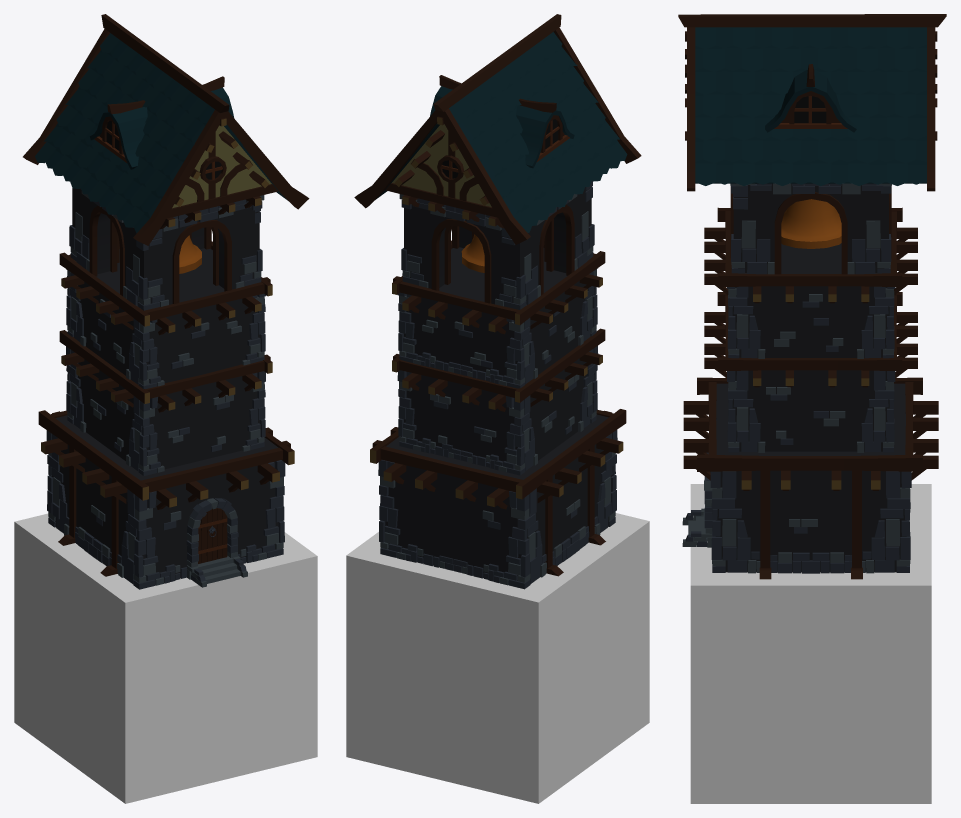
The model's file is bell_tower.obj.
3 views of the same model, side by side, from view 1: azimuth 30°, elevation 25°; view 2: azimuth 150°, elevation 25°; view 3: azimuth 270°, elevation 25° (orthographic). The views are drawn at different scales.
Parts seen in each view (by area): view 1: Bell_Tower, Cube; view 2: Bell_Tower, Cube; view 3: Bell_Tower, Cube.
Part boxes in pixels (x1,y1,x2,y2): Bell_Tower: (23, 14, 309, 589); Cube: (14, 513, 317, 803); Bell_Tower: (354, 14, 641, 589); Cube: (346, 513, 649, 803); Bell_Tower: (678, 14, 946, 579); Cube: (690, 484, 931, 803).
Bounding box in the file's own units: 2 × 6.76 × 2.23.
